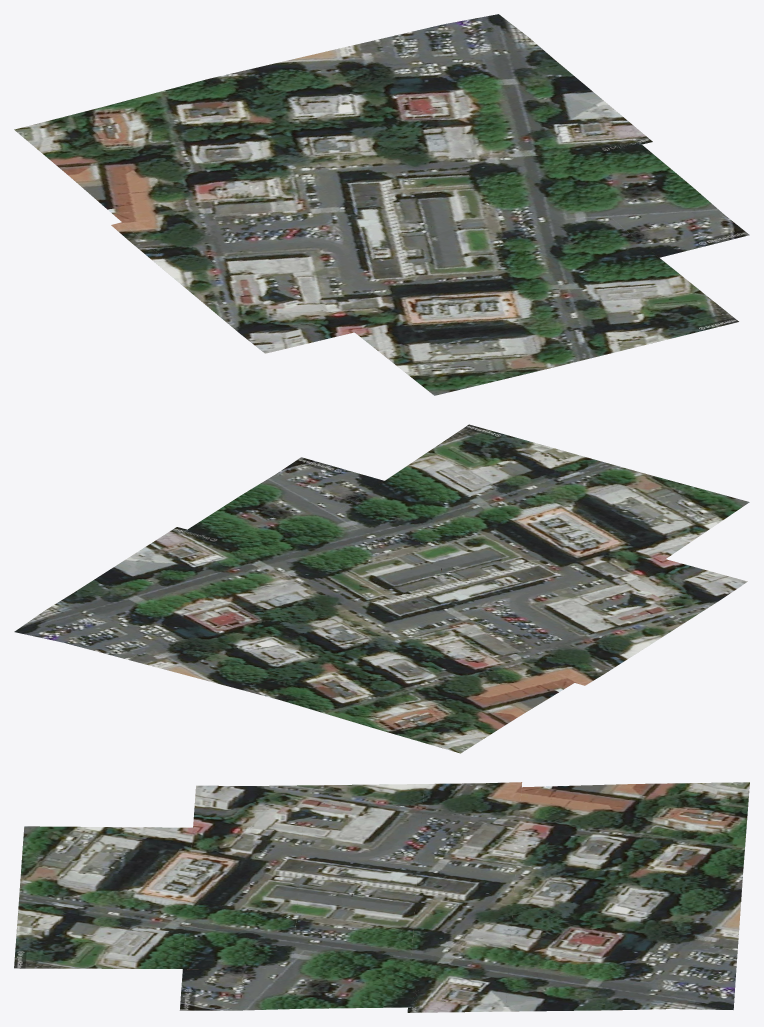
The model's file is pezzi.fbx.
3 renders of one model, top to bottom at view 1: azimuth 30°, elevation 25°; view 2: azimuth 150°, elevation 25°; view 3: azimuth 270°, elevation 25°, orthographic. The views are drawn at different scales.
Parts seen in each view (by area): view 1: Location_Terrain_2, Location_Terrain, Location_Terrain_1; view 2: Location_Terrain_2, Location_Terrain, Location_Terrain_1; view 3: Location_Terrain_2, Location_Terrain, Location_Terrain_1.
Boxes of the visible parts, x1,y1,x2,y2 form: Location_Terrain_2: (14, 14, 652, 261); Location_Terrain: (111, 106, 749, 353); Location_Terrain_1: (303, 214, 738, 395); Location_Terrain_2: (14, 527, 623, 753); Location_Terrain: (139, 457, 747, 685); Location_Terrain_1: (330, 424, 749, 594); Location_Terrain_2: (407, 782, 749, 1012); Location_Terrain: (179, 782, 522, 1010); Location_Terrain_1: (14, 826, 302, 969).
Bounding box in the file's own units: 224 × 9.89 × 283.
